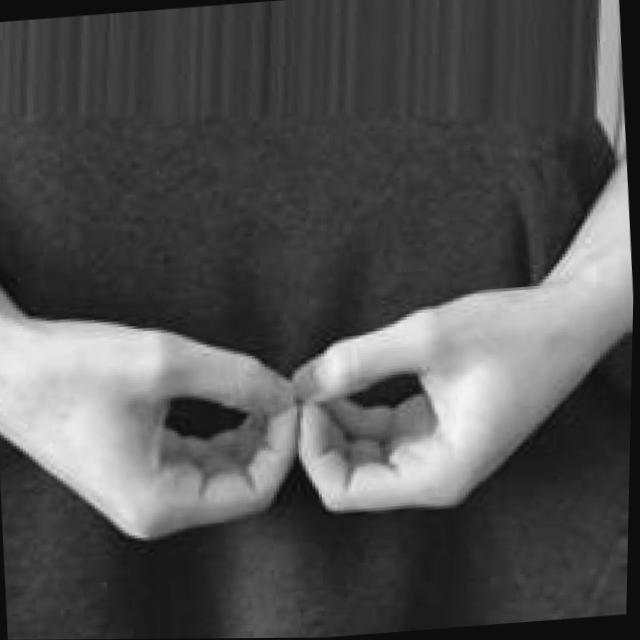B: (0, 265, 587, 548)
